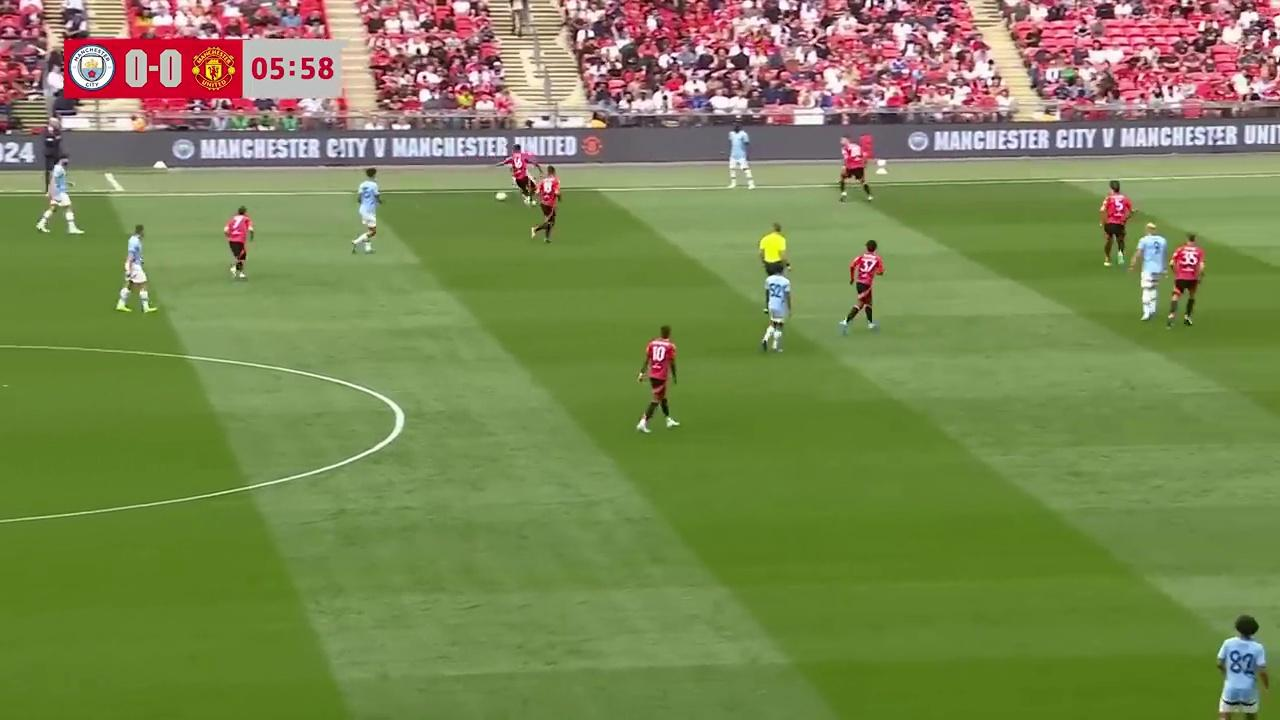ball: (494, 187, 508, 202)
player: (1215, 613, 1270, 718), (634, 325, 680, 434), (838, 239, 885, 335), (1166, 234, 1205, 328), (114, 223, 154, 313), (36, 161, 84, 235), (1130, 226, 1164, 322), (1098, 181, 1135, 268), (760, 264, 792, 353), (353, 170, 383, 253), (531, 167, 561, 243), (224, 205, 254, 280), (837, 145, 873, 202), (727, 123, 754, 190), (505, 147, 535, 204)
referee: (758, 222, 789, 280)
